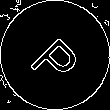P_NE: (24, 24, 86, 86)
